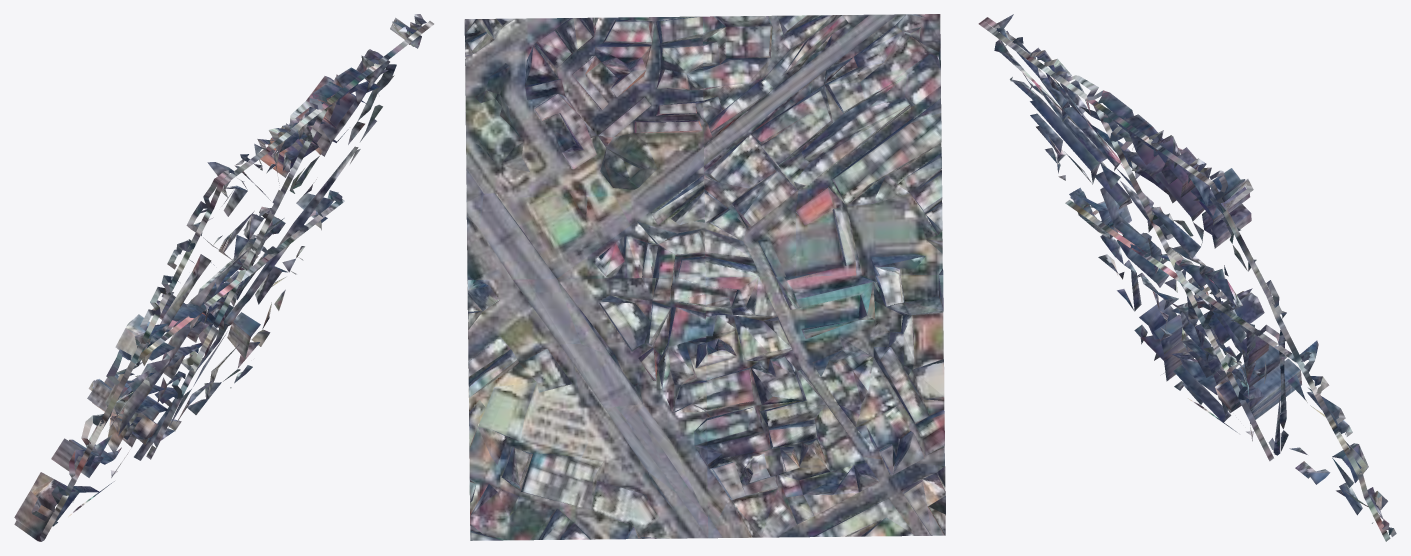
3 views of the same model, side by side, from view 1: azimuth 30°, elevation 25°; view 2: azimuth 150°, elevation 25°; view 3: azimuth 270°, elevation 25° (orthographic). The views are drawn at different scales.
Bounding box in the file's own units: 631 × 570 × 521.
Materials: 1 (1 with a texture image).
